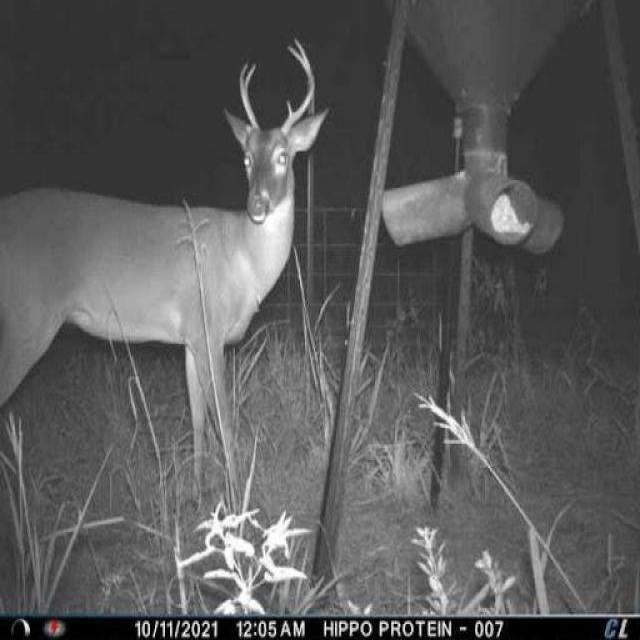deer: (0, 33, 331, 516)
